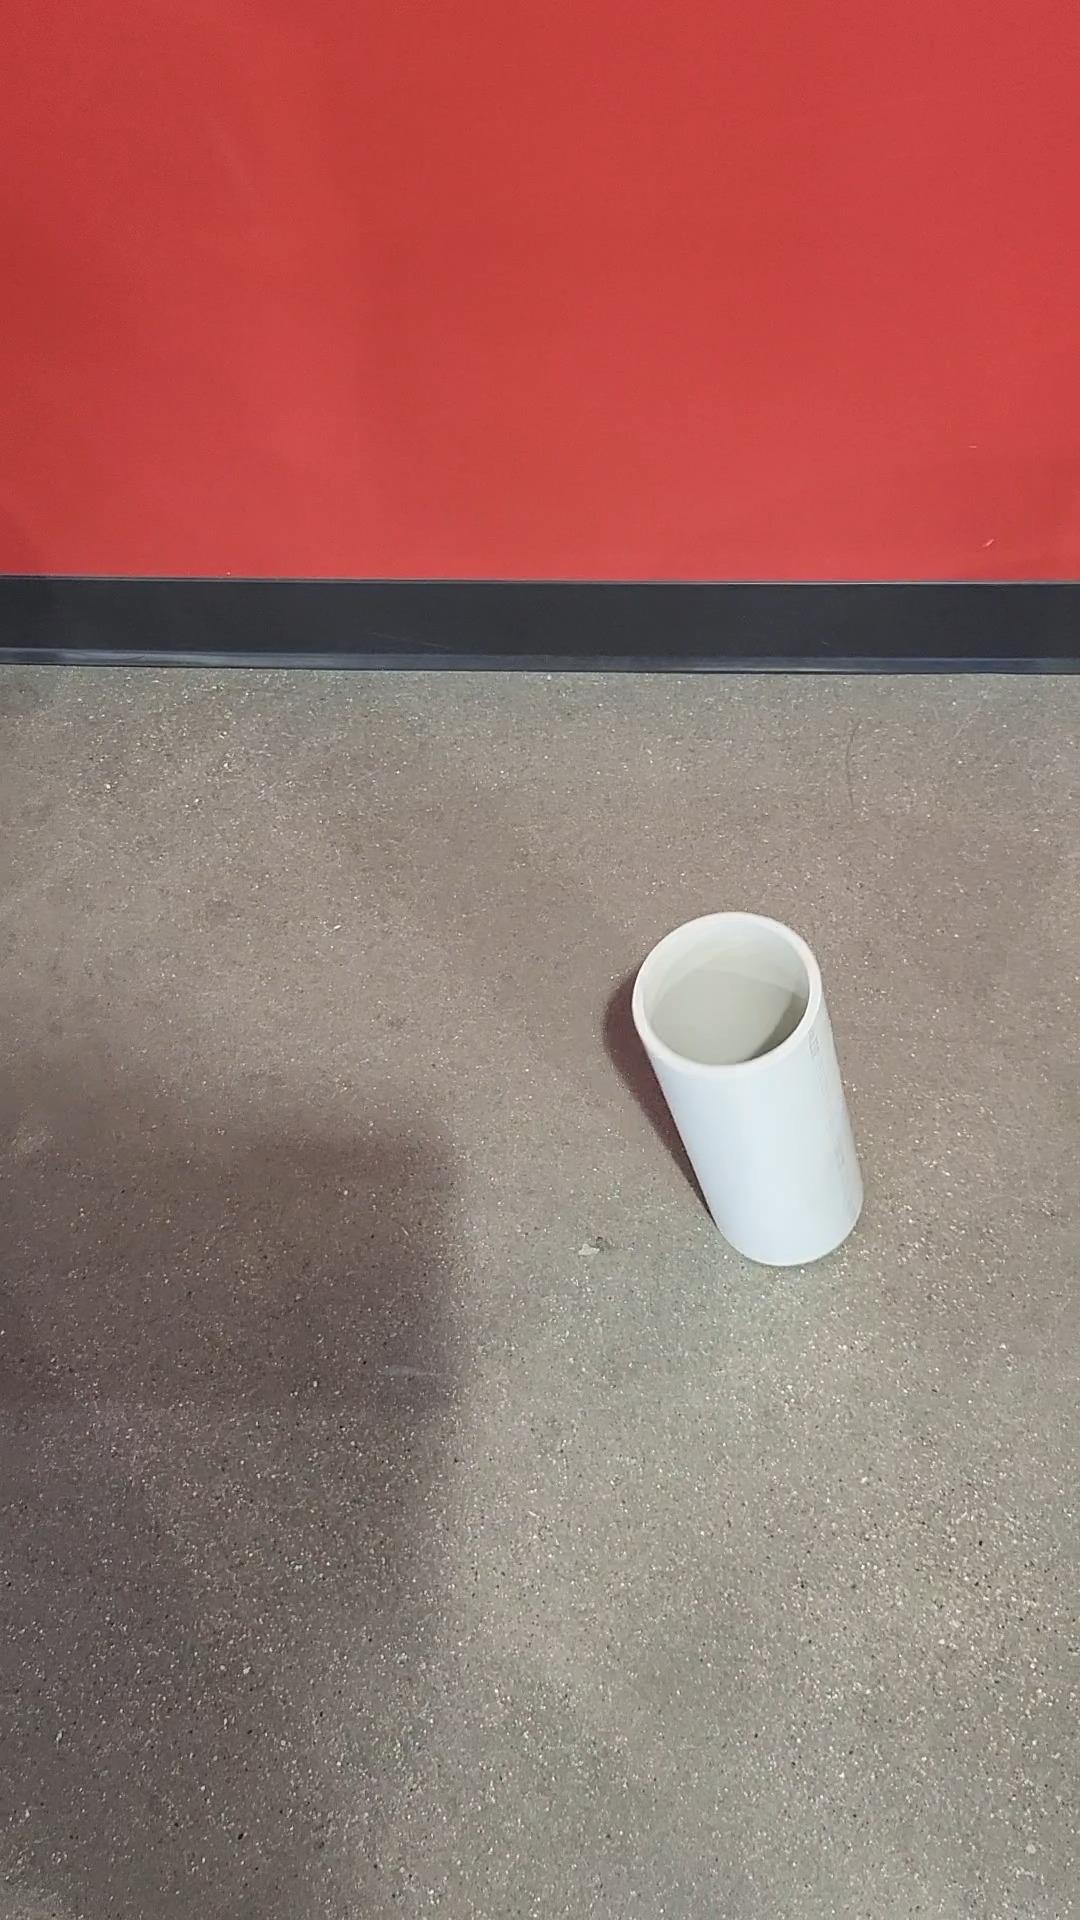coral: (633, 906, 866, 1270)
